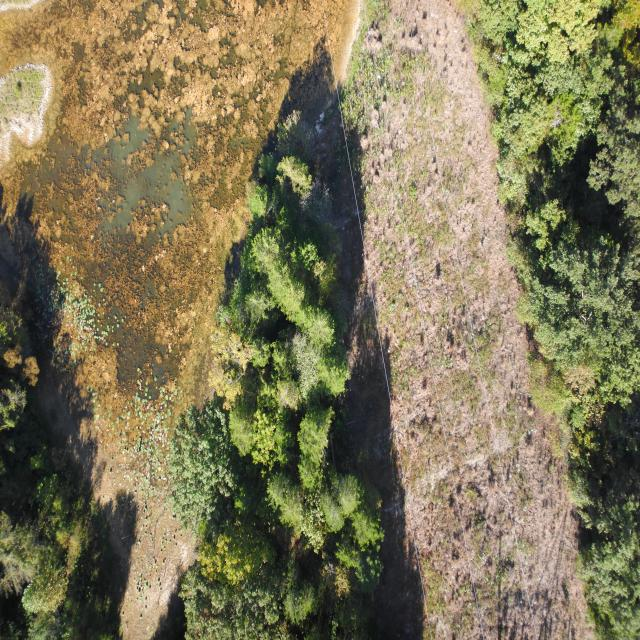Area of Interest: (474, 8, 637, 638), (176, 135, 374, 635), (14, 322, 90, 627)
